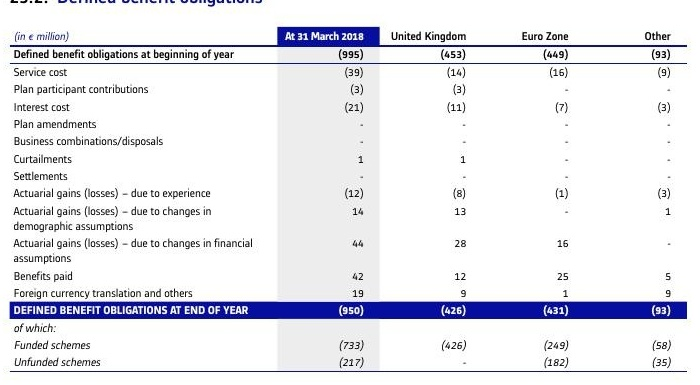table: (0, 0, 700, 385)
